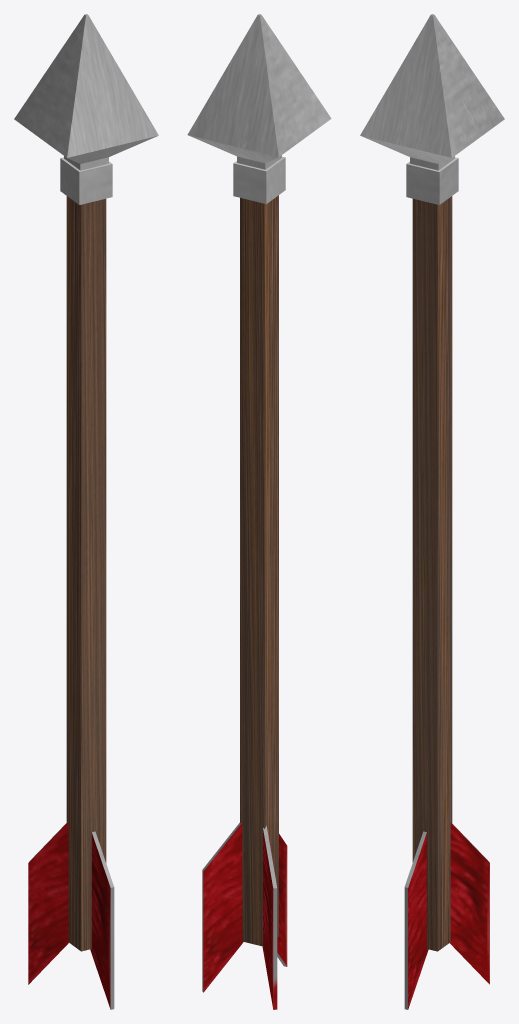
The model's file is arrow.FBX.
The picture shows the model from 3 angles, left to right: view 1: azimuth 30°, elevation 25°; view 2: azimuth 150°, elevation 25°; view 3: azimuth 330°, elevation 25°; orthographic projection.
Visible parts, largest first — view 1: Box001; view 2: Box001; view 3: Box001.
Boxes of the visible parts, bbox=[...] form: Box001: bbox=[14, 14, 158, 1009]; Box001: bbox=[187, 14, 331, 1009]; Box001: bbox=[360, 14, 504, 1009].
Size of the model in its own units: 4061 by 41193 by 4061.
Materials: 1 (1 with a texture image).
